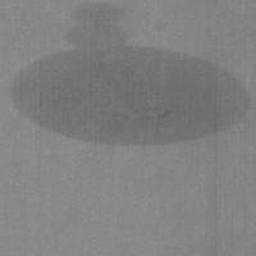Oil spot: (6, 0, 252, 147)
